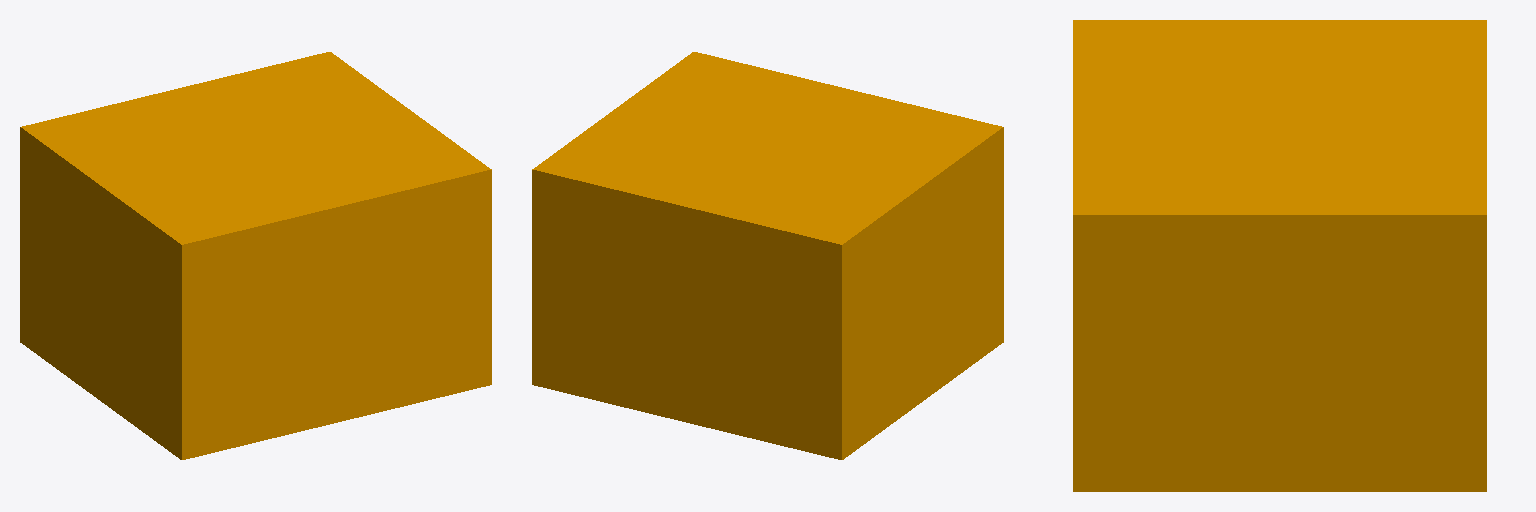
robot.urdf — object:
<?xml version="1.0"?>
<!-- Auto-generated by tools/gen_primitive_objects.py. kind=box dims=(0.081086, 0.073176, 0.05393) -->
<robot name="object">
  <link name="object">
    <visual>
      <origin xyz="0 0 0"/>
      <geometry>
        <box size="0.081086 0.073176 0.053930"/>
      </geometry>
    </visual>
    <collision>
      <origin xyz="0 0 0"/>
      <geometry>
        <box size="0.081086 0.073176 0.053930"/>
      </geometry>
    </collision>
    <inertial>
      <mass value="0.063999"/>
      <inertia ixx="0.00004407" ixy="0.0" ixz="0.0" iyy="0.00005058" iyz="0.0" izz="0.00006362"/>
    </inertial>
  </link>
</robot>

--- What the picture shows (computed from the rendered views, not written in the file) ---
The picture shows the robot from 3 angles, left to right: view 1: azimuth 30°, elevation 25°; view 2: azimuth 150°, elevation 25°; view 3: azimuth 270°, elevation 25°; orthographic projection.
Model object with 1 links and 0 joints (none), rooted at object, posed all joints at 0.
Visible links, largest first — view 1: object; view 2: object; view 3: object.
Boxes of the visible links, x1,y1,x2,y2 form: object: (20,52,491,459); object: (532,52,1003,459); object: (1073,20,1486,491).
Bounding box of the posed robot: 0.0811 × 0.0732 × 0.0539 m (x, y, z).
Geometry: primitives only (box / cylinder / sphere), no mesh files.
